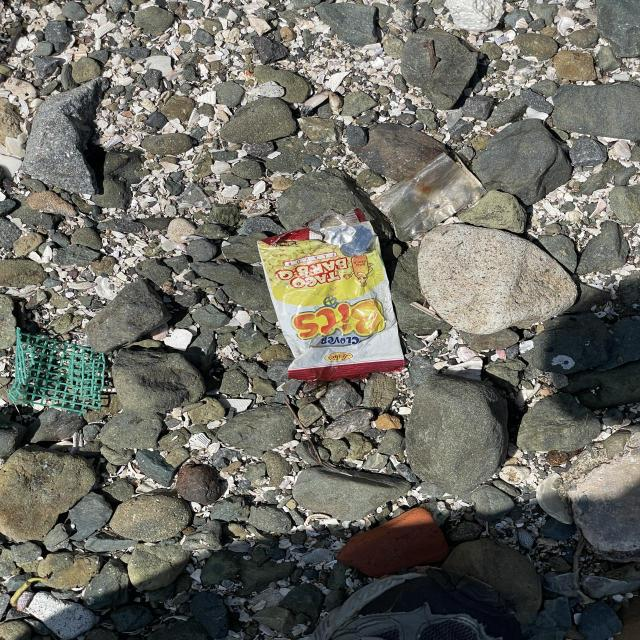plastic_waste: (255, 208, 405, 380), (372, 153, 488, 243)
